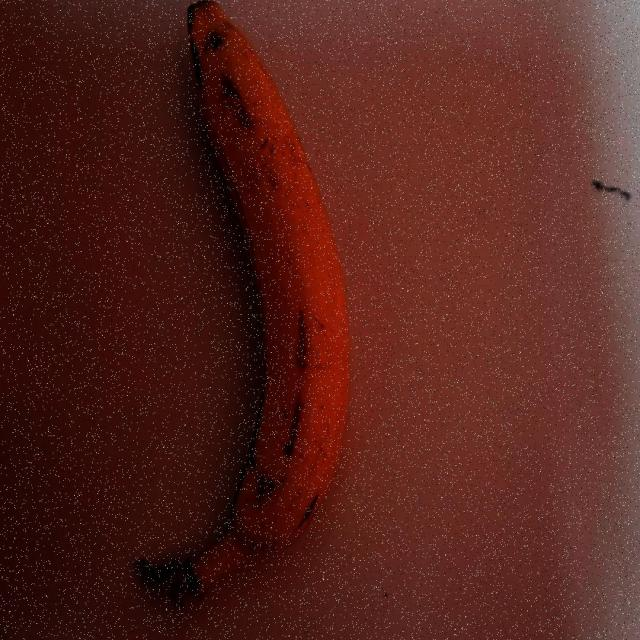Banana: (136, 0, 353, 608)
